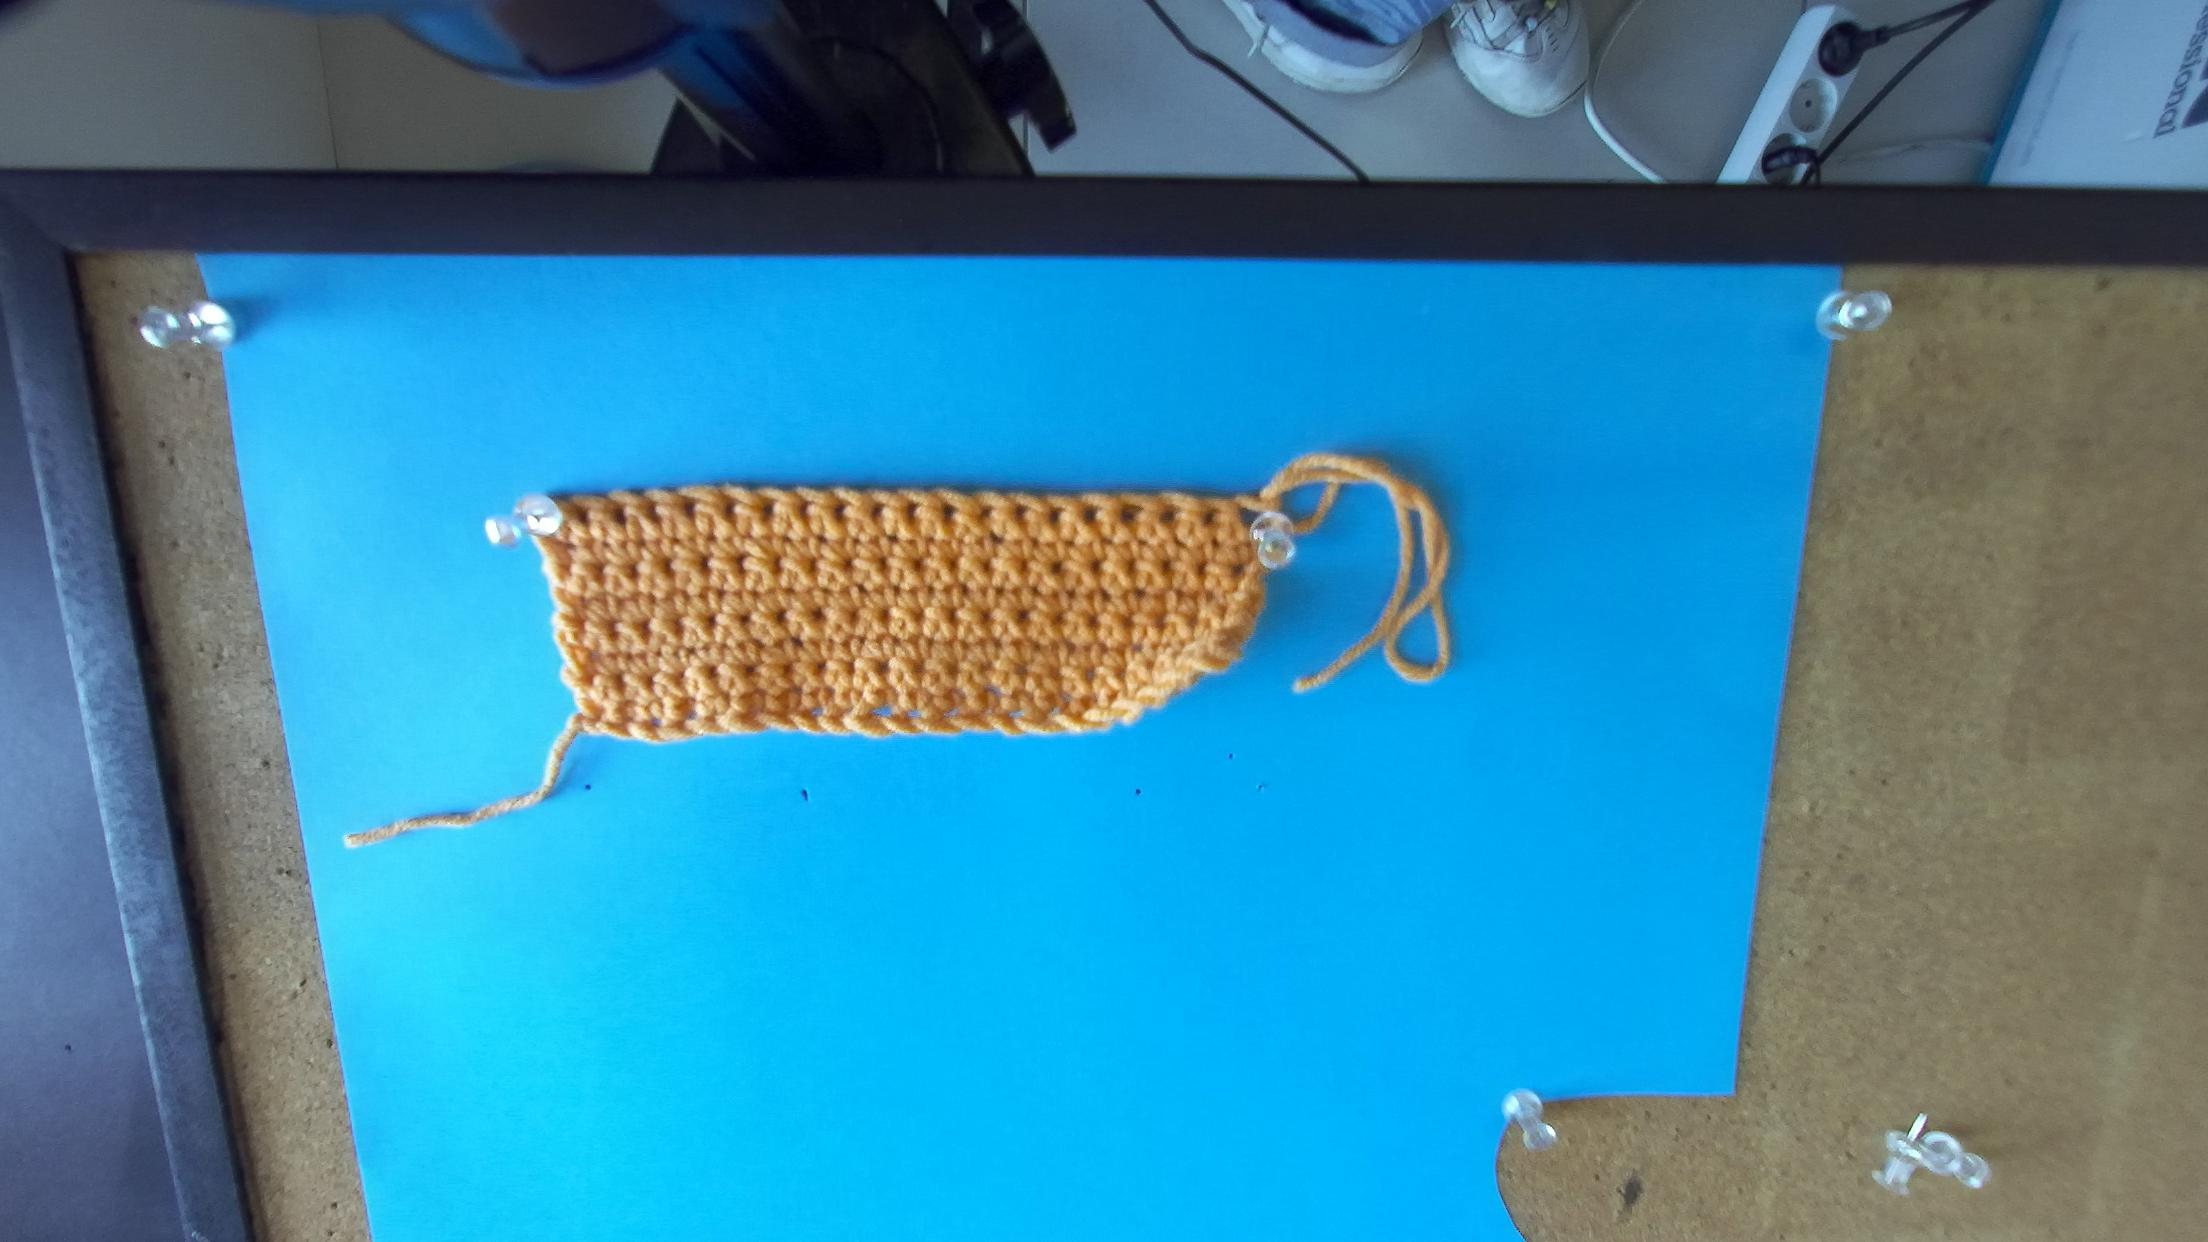hole: (1239, 507, 1263, 529), (610, 505, 628, 528), (1121, 503, 1142, 522), (645, 503, 661, 526), (760, 497, 776, 519), (572, 505, 590, 523), (722, 497, 740, 516), (1048, 505, 1065, 525), (905, 503, 921, 525), (870, 505, 887, 523), (1083, 505, 1099, 523), (1157, 508, 1177, 523), (942, 503, 958, 520), (681, 499, 696, 517), (833, 502, 848, 520), (1015, 503, 1030, 520), (978, 505, 993, 520), (798, 502, 810, 519), (1203, 511, 1215, 526)
swatch: (514, 485, 1272, 746)
